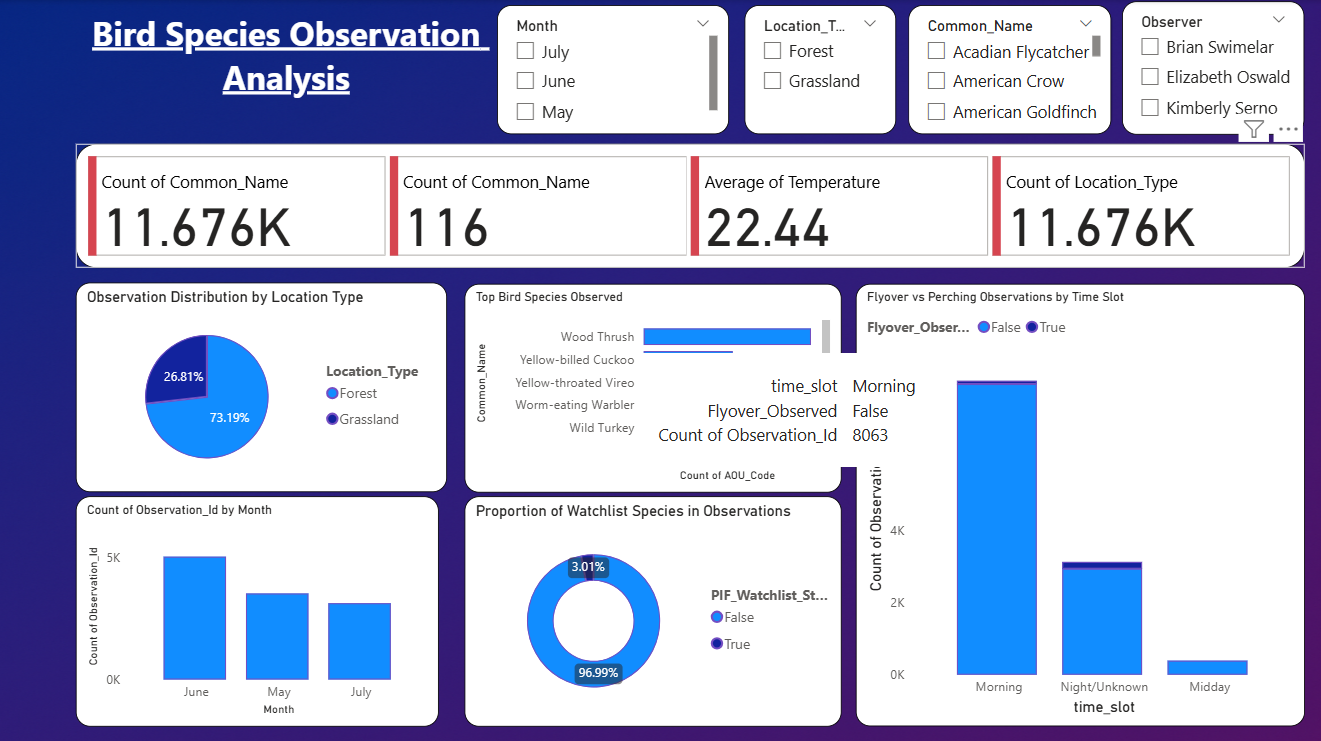

What the dashboard file says about the page in this screenshot:
{"tool":"powerbi","page":{"name":"Dashboard","canvas":[1280,720],"ordinal":0},"visuals":[{"type":"pieChart","title":"Observation Distribution by Location Type","fields":{"Category":["Bird_Species_Cleaned_Data.Location_Type"],"Y":["Bird_Species_Cleaned_Data.Common_Name"]},"box":[76.2,272.5,358.8,202.5],"z":0},{"type":"clusteredBarChart","title":"Top Bird Species Observed ","fields":{"Category":["Bird_Species_Cleaned_Data.Common_Name"],"Y":["Bird_Species_Cleaned_Data.AOU_Code"]},"box":[451.2,273.8,363.8,201.2],"z":1000},{"type":"columnChart","title":"Flyover vs Perching Observations by Time Slot","fields":{"Category":["Bird_Species_Cleaned_Data.time_slot"],"Y":["Bird_Species_Cleaned_Data.Observation_Id"],"Series":["Bird_Species_Cleaned_Data.Flyover_Observed"]},"box":[828.8,273.8,433.8,427.5],"z":2000},{"type":"columnChart","fields":{"Category":["Bird_Species_Cleaned_Data.Month"],"Y":["Bird_Species_Cleaned_Data.Observation_Id"]},"box":[76.2,478.8,350,222.5],"z":3000},{"type":"donutChart","title":"Proportion of Watchlist Species in Observations","fields":{"Category":["Bird_Species_Cleaned_Data.PIF_Watchlist_Status"],"Y":["Bird_Species_Cleaned_Data.Common_Name"]},"box":[451.2,478.8,363.8,222.5],"z":4000},{"type":"slicer","fields":{"Values":["Bird_Species_Cleaned_Data.Month"]},"box":[482.5,5,223.8,125],"z":5000},{"type":"slicer","fields":{"Values":["Bird_Species_Cleaned_Data.Location_Type"]},"box":[721.2,5,146.2,125],"z":6000},{"type":"slicer","fields":{"Values":["Bird_Species_Cleaned_Data.Common_Name"]},"box":[880,5,196.2,125],"z":7000},{"type":"slicer","fields":{"Values":["Bird_Species_Cleaned_Data.Observer"]},"box":[1086.2,1.2,176.2,128.8],"z":8000},{"type":"cardVisual","fields":{"Data":["Bird_Species_Cleaned_Data.Common_Name","Min(Bird_Species_Cleaned_Data.Common_Name)1","Bird_Species_Cleaned_Data.Temperature","Bird_Species_Cleaned_Data.Location_Type"]},"box":[76.2,138.8,1186.2,120],"z":9000},{"type":"textbox","box":[76.2,5,406.2,110],"z":10000}]}

Visuals, with their boxes in screenshot pixels (x1, y1, x2, y2), scaled from the page's 1280x720 canvas onto the 1321x741 screenshot:
"Observation Distribution by Location Type" pieChart: [79, 280, 449, 489]
"Top Bird Species Observed " clusteredBarChart: [466, 282, 841, 489]
"Flyover vs Perching Observations by Time Slot" columnChart: [855, 282, 1303, 722]
columnChart - Bird_Species_Cleaned_Data.Month x Bird_Species_Cleaned_Data.Observation_Id: [79, 493, 440, 722]
"Proportion of Watchlist Species in Observations" donutChart: [466, 493, 841, 722]
slicer - Bird_Species_Cleaned_Data.Month: [498, 5, 729, 134]
slicer - Bird_Species_Cleaned_Data.Location_Type: [744, 5, 895, 134]
slicer - Bird_Species_Cleaned_Data.Common_Name: [908, 5, 1111, 134]
slicer - Bird_Species_Cleaned_Data.Observer: [1121, 1, 1303, 134]
cardVisual - Bird_Species_Cleaned_Data.Common_Name x Min(Bird_Species_Cleaned_Data.Common_Name)1: [79, 143, 1303, 266]
textbox: [79, 5, 498, 118]
